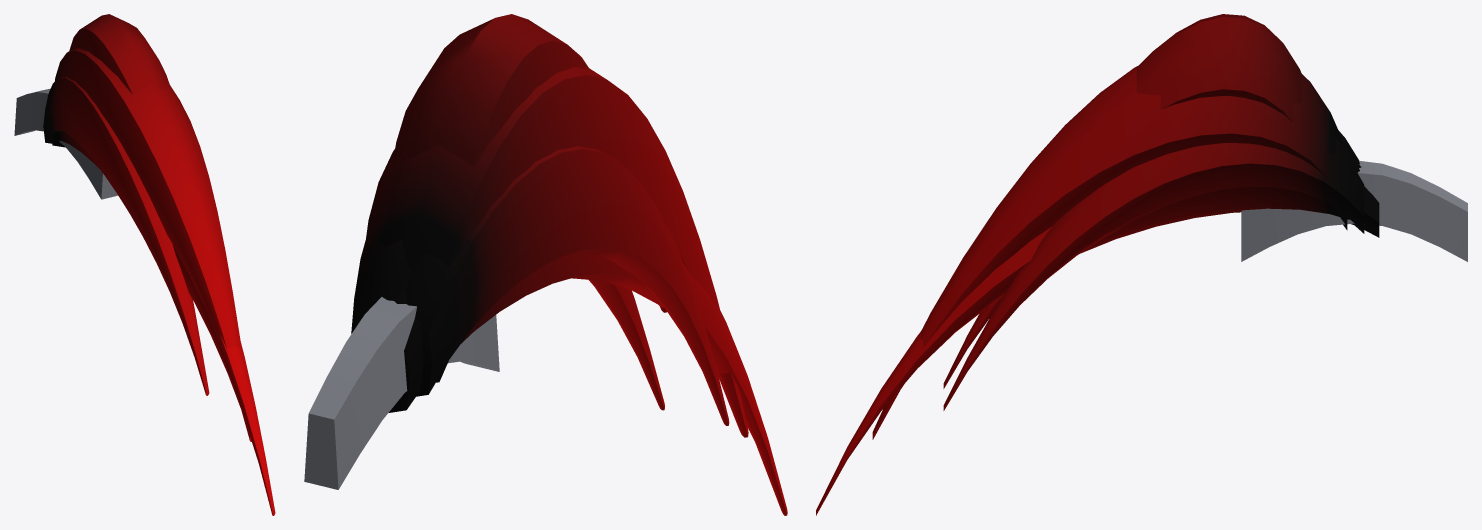
Rendered from helm_plume.glb.
3 renders of one model, left to right at view 1: azimuth 30°, elevation 25°; view 2: azimuth 150°, elevation 25°; view 3: azimuth 270°, elevation 25°, orthographic. The views are drawn at different scales.
Visible parts, largest first — view 1: HelmPlume; view 2: HelmPlume; view 3: HelmPlume.
Part boxes in pixels (x1,y1,x2,y2): HelmPlume: [14, 14, 275, 515]; HelmPlume: [304, 14, 787, 515]; HelmPlume: [816, 14, 1467, 515].
Bounding box in the file's own units: 0.0889 × 0.3888 × 0.46.
